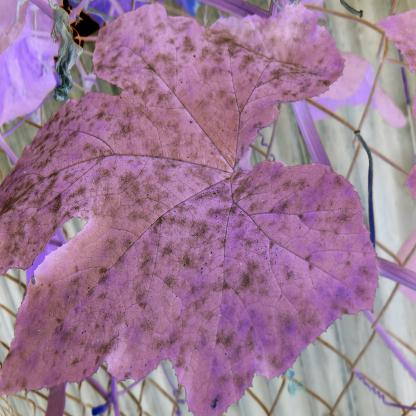Squash Powdery mildew leaf: (0, 2, 360, 403)
